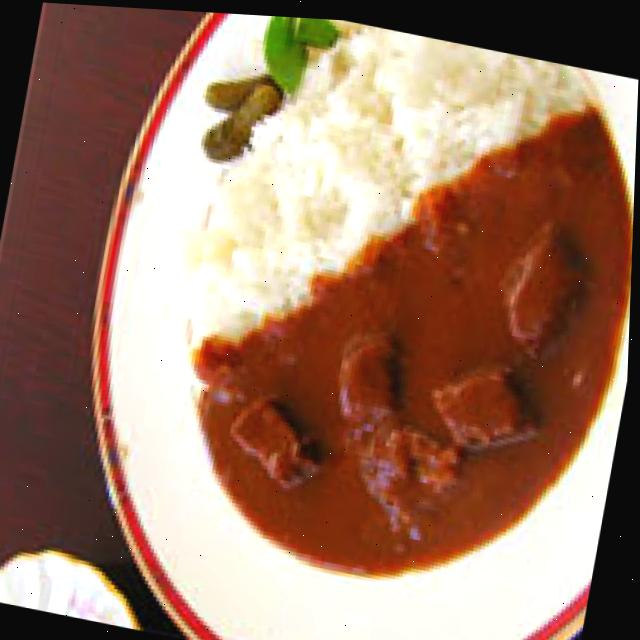牛肉菜式: (46, 3, 640, 640)
